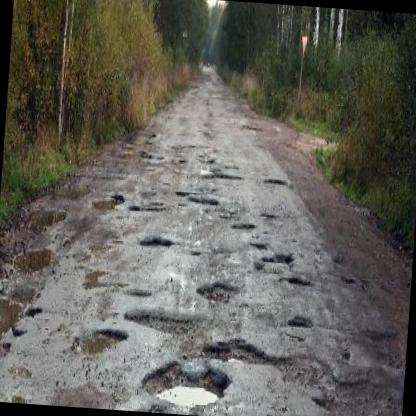pothole: (137, 355, 231, 410), (308, 369, 404, 416), (0, 286, 44, 374), (122, 306, 214, 336), (72, 323, 130, 364), (193, 279, 242, 303), (90, 190, 126, 214), (260, 250, 294, 270), (138, 233, 174, 250), (286, 312, 314, 333), (188, 191, 219, 209), (284, 273, 310, 290)
